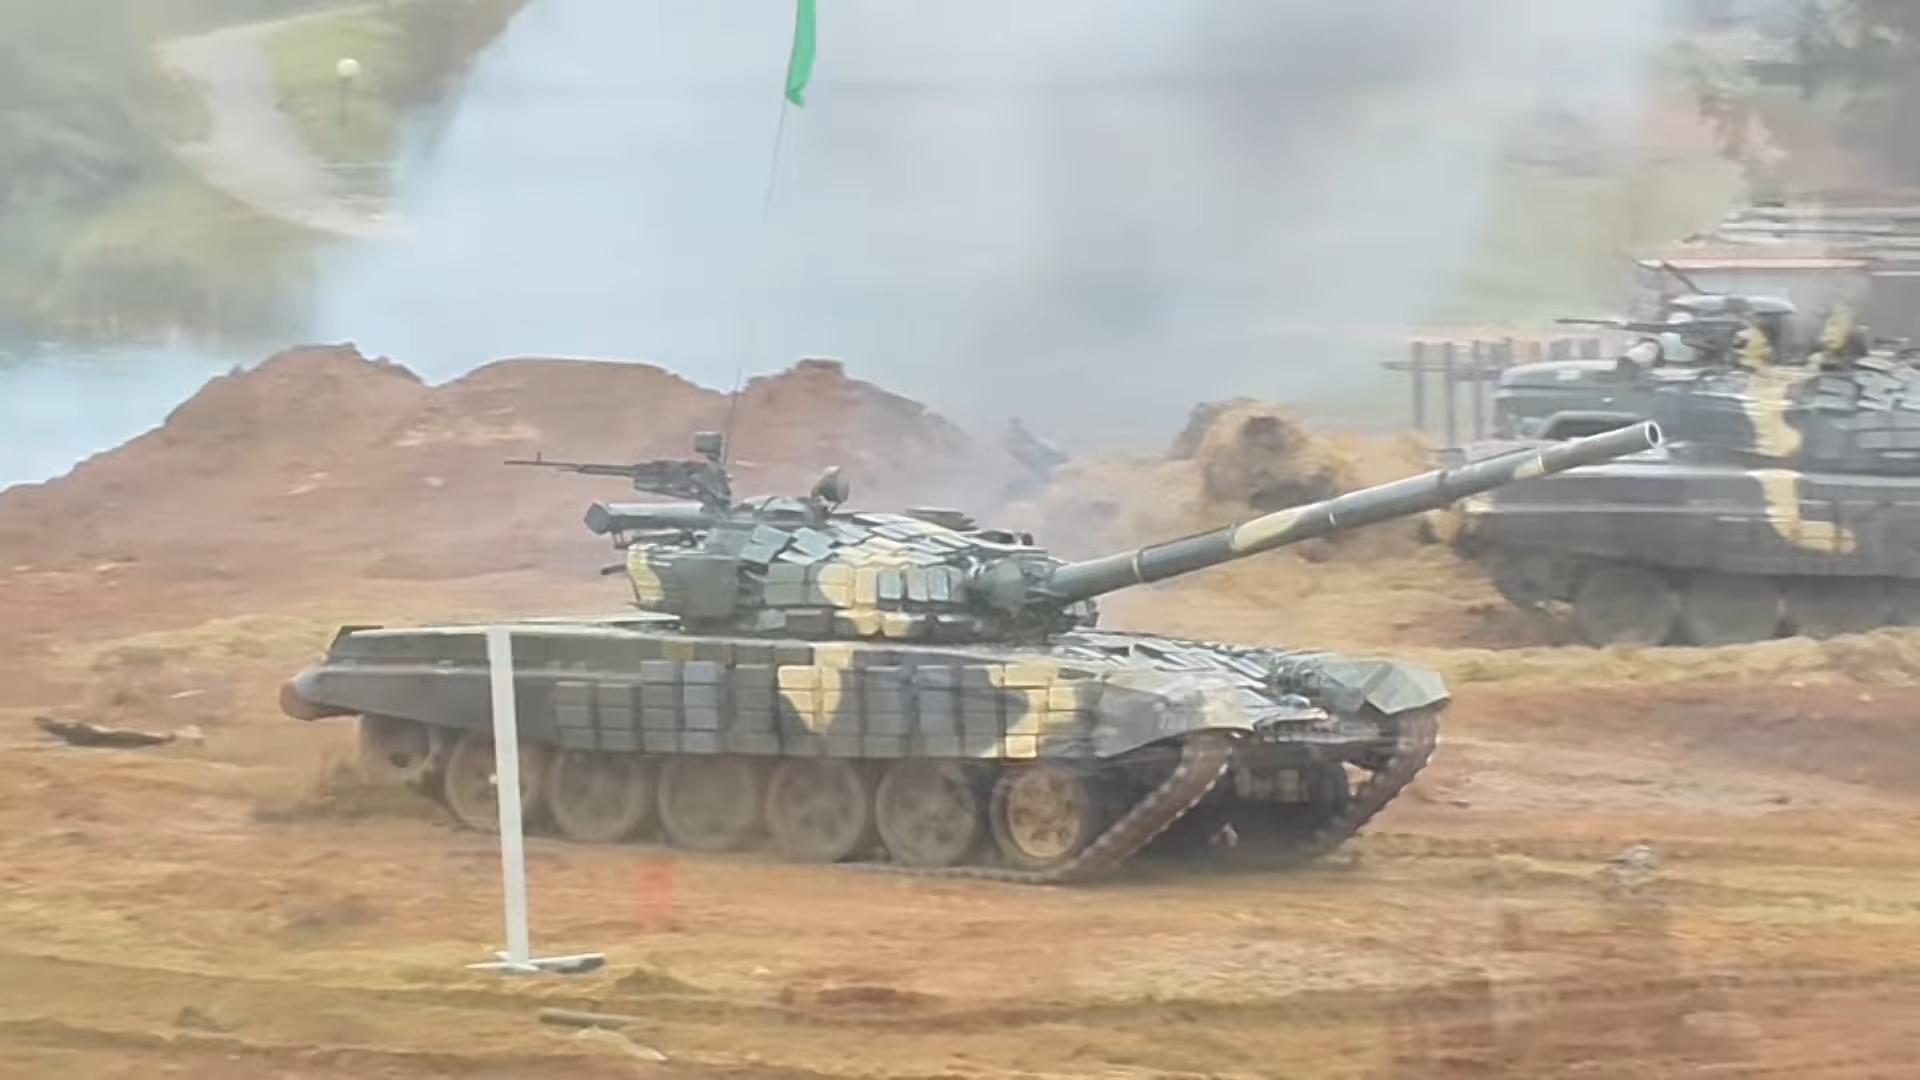tank: (280, 418, 1660, 886), (1369, 258, 1919, 646)
